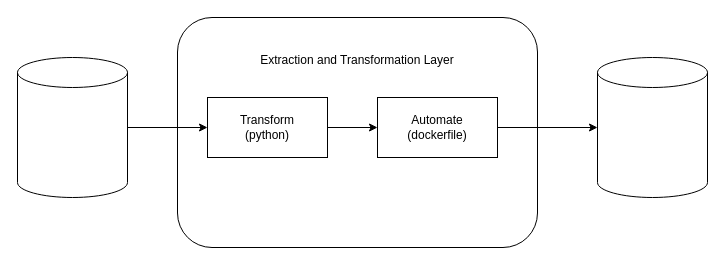
This 725x265 diagram has some shape labels left out. The centre of each missing label's shape, as x and y in pixels:
"Reporting Layer (Power BI)" goes at point (652, 127).
"Source Data (csv)" goes at point (72, 127).
